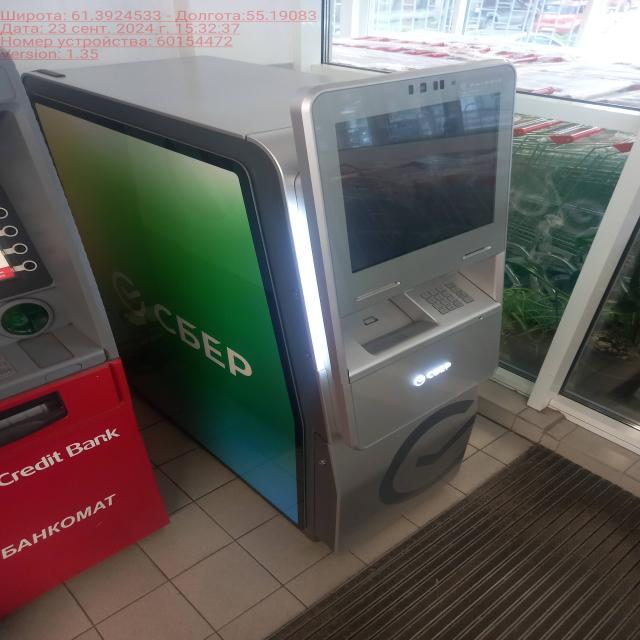bank: (19, 54, 518, 544)
